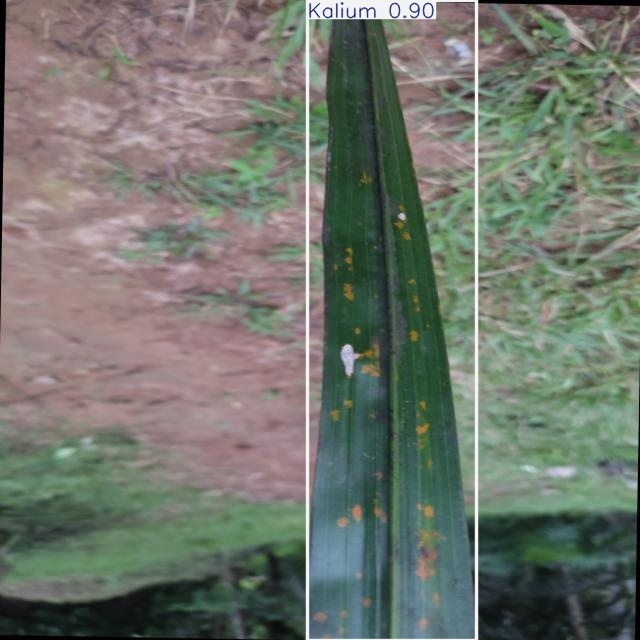Kalium: (308, 0, 477, 640)
